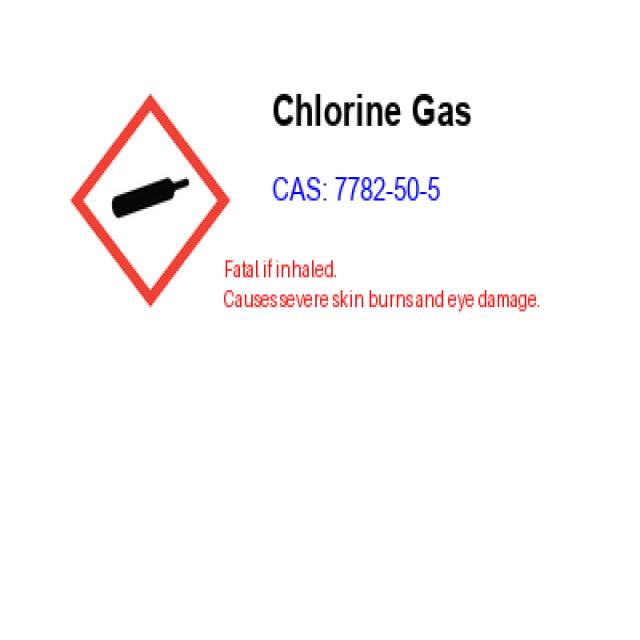cas number: (269, 175, 457, 211)
chemical name: (274, 85, 480, 145)
compressed gas: (66, 84, 228, 314)
warning text: (215, 248, 565, 343)
